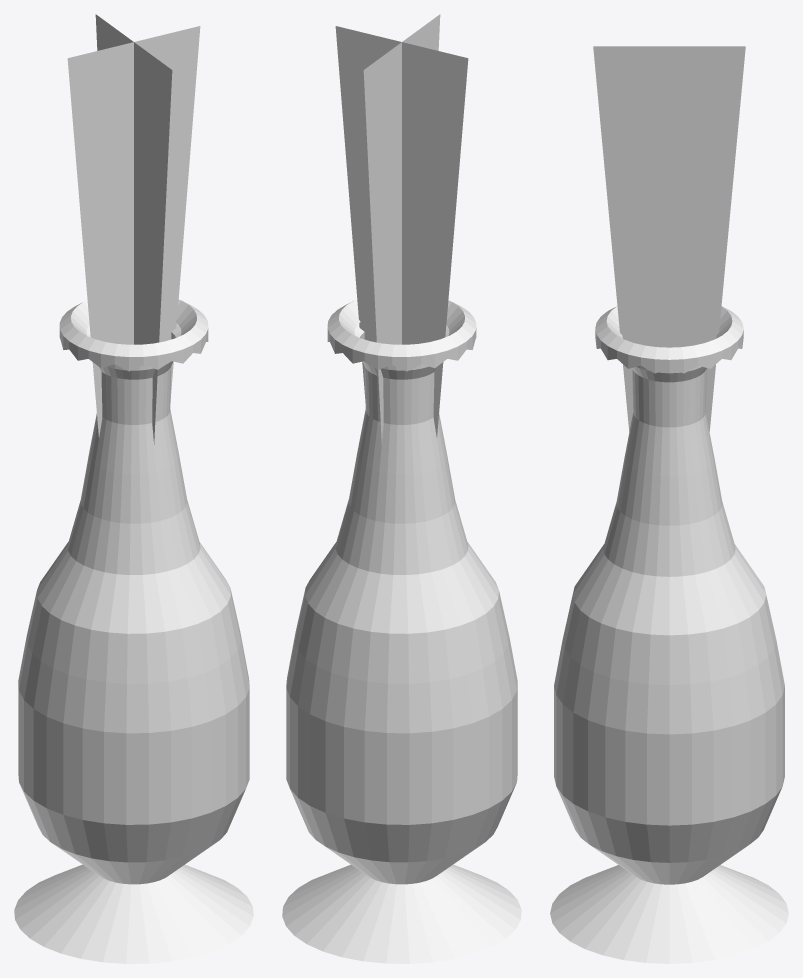
File: glass_vase.obj
3 views of the same model, side by side, from view 1: azimuth 30°, elevation 25°; view 2: azimuth 150°, elevation 25°; view 3: azimuth 270°, elevation 25° (orthographic).
Parts seen in each view (by area): view 1: Cylinder; view 2: Cylinder; view 3: Cylinder.
Part boxes in pixels (x1,y1,x2,y2): Cylinder: (14, 14, 253, 963); Cylinder: (282, 14, 521, 963); Cylinder: (550, 46, 788, 963).
Bounding box in the file's own units: 0.7032 × 2.82 × 0.7032.
